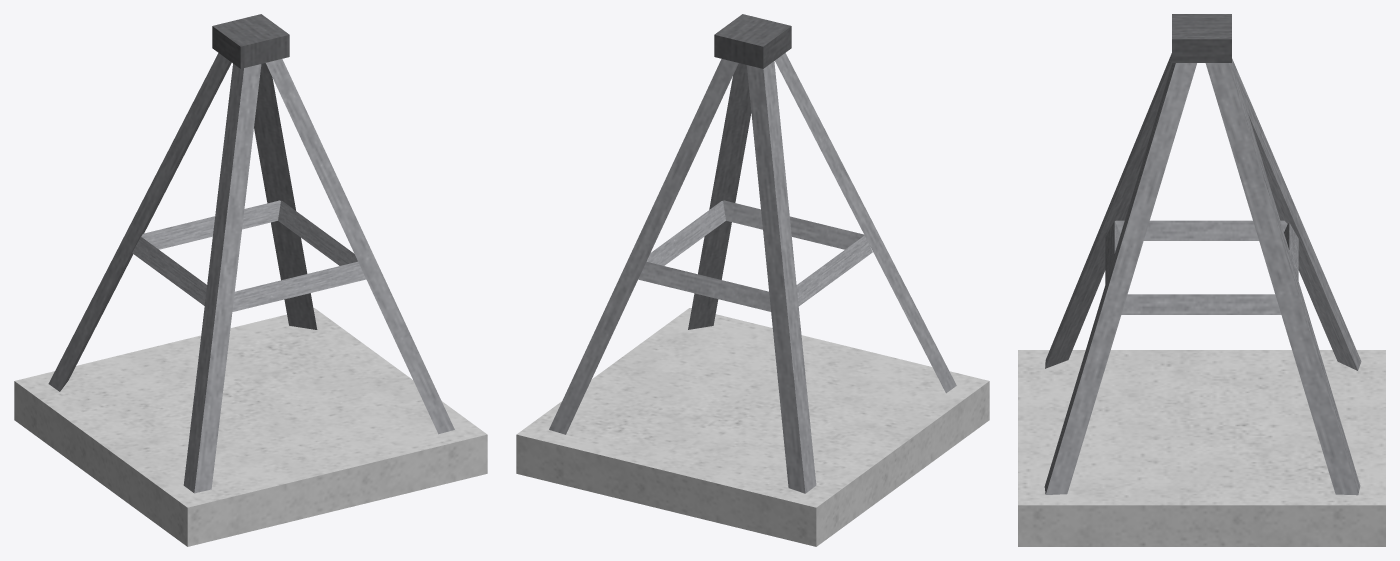
The model's file is pivot-irrigator-pivot-cbj_LOD01.gltf.
The picture shows the model from 3 angles, left to right: view 1: azimuth 30°, elevation 25°; view 2: azimuth 150°, elevation 25°; view 3: azimuth 270°, elevation 25°; orthographic projection. The views are drawn at different scales.
Visible parts, largest first — view 1: Plane01; view 2: Plane01; view 3: Plane01.
Part boxes in pixels (left/top/right/bottom): Plane01: left=14, top=14, right=487, bottom=546; Plane01: left=516, top=14, right=989, bottom=546; Plane01: left=1018, top=14, right=1385, bottom=546.
Size of the model in its own units: 4 by 5.31 by 4.
